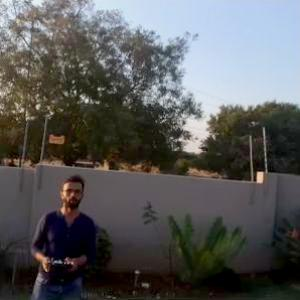follow: (24, 172, 99, 299)
